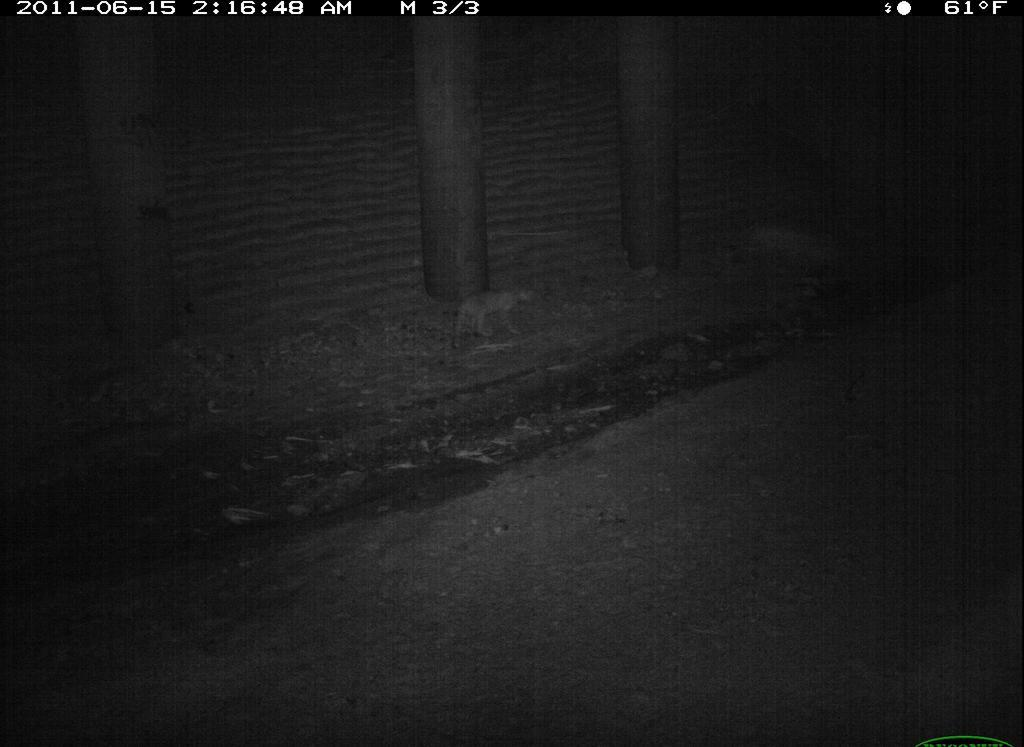bobcat: (904, 560, 1024, 689)
